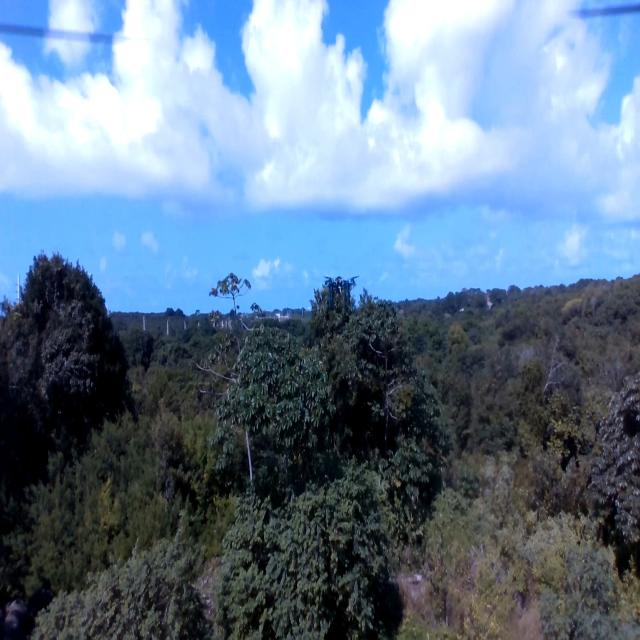-uav-: (322, 272, 358, 312)
